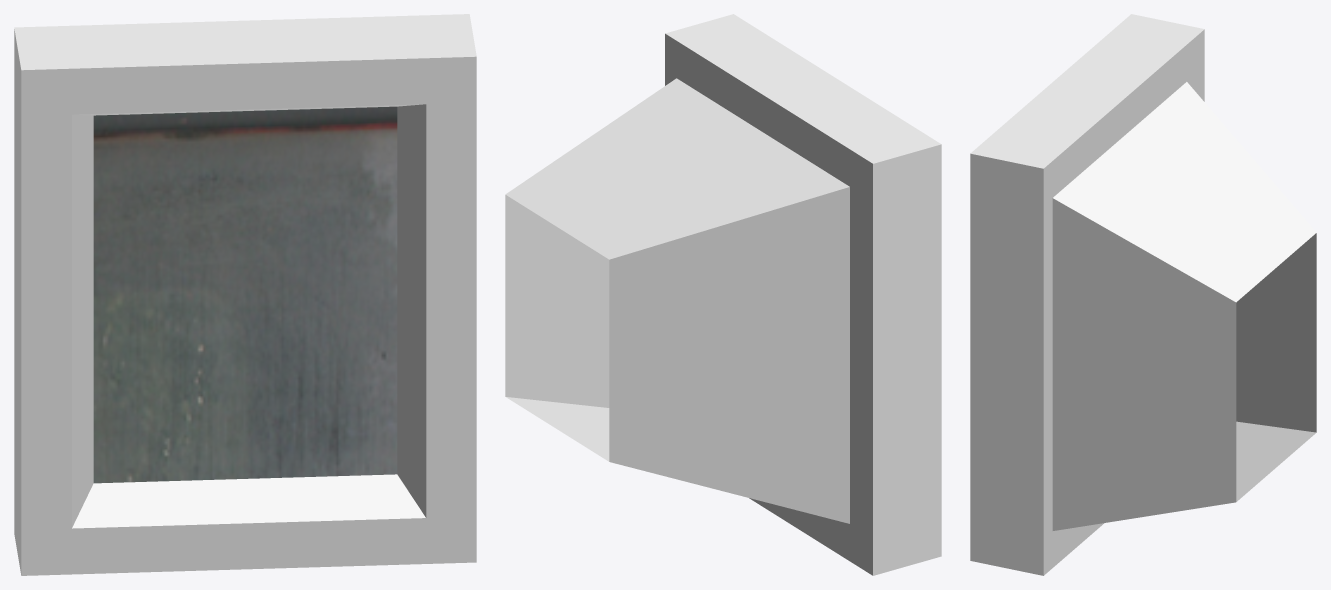
The model's file is Train_Driver_Screen.fbx.
The picture shows the model from 3 angles, left to right: view 1: azimuth 30°, elevation 25°; view 2: azimuth 150°, elevation 25°; view 3: azimuth 270°, elevation 25°; orthographic projection. The views are drawn at different scales.
Visible parts, largest first — view 1: Prop.Driver.Monitor, Prop.Driver.Screen; view 2: Prop.Driver.Monitor; view 3: Prop.Driver.Monitor.
Boxes of the visible parts, <box> form: Prop.Driver.Monitor: <box>14,14,476,575</box>; Prop.Driver.Screen: <box>93,106,397,483</box>; Prop.Driver.Monitor: <box>505,14,941,575</box>; Prop.Driver.Monitor: <box>970,14,1316,575</box>.
Bounding box in the file's own units: 16.06 × 16.5 × 12.73.
